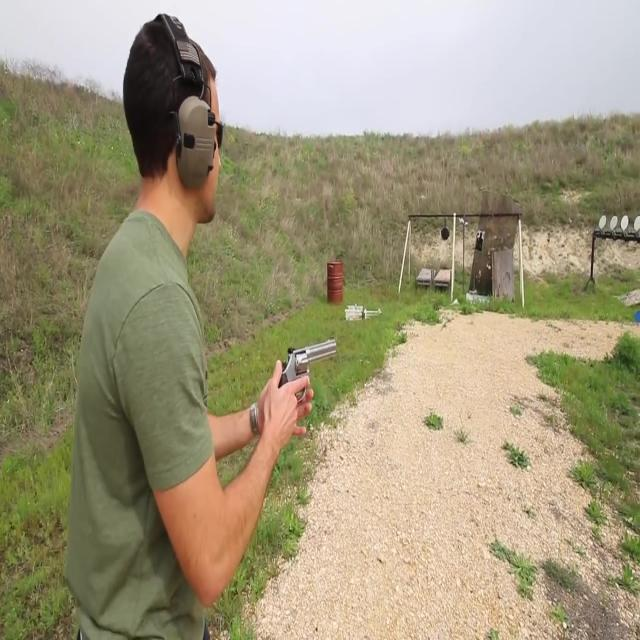Weapon: (262, 316, 362, 431)
